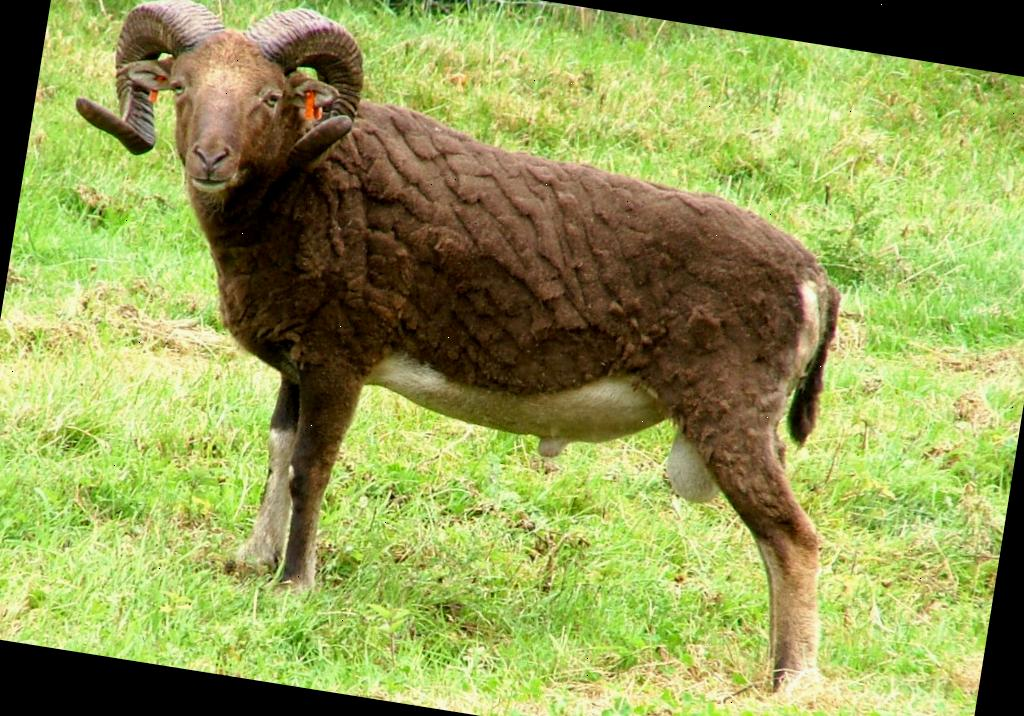Sheep: (9, 0, 939, 716)
